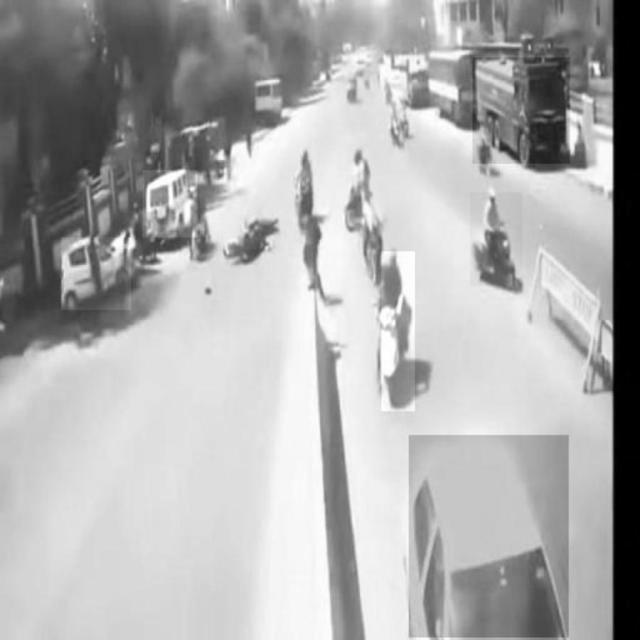vehicle: (409, 435, 569, 637), (472, 58, 570, 164), (381, 252, 415, 412), (62, 238, 132, 310), (471, 193, 523, 286), (143, 171, 198, 238)
